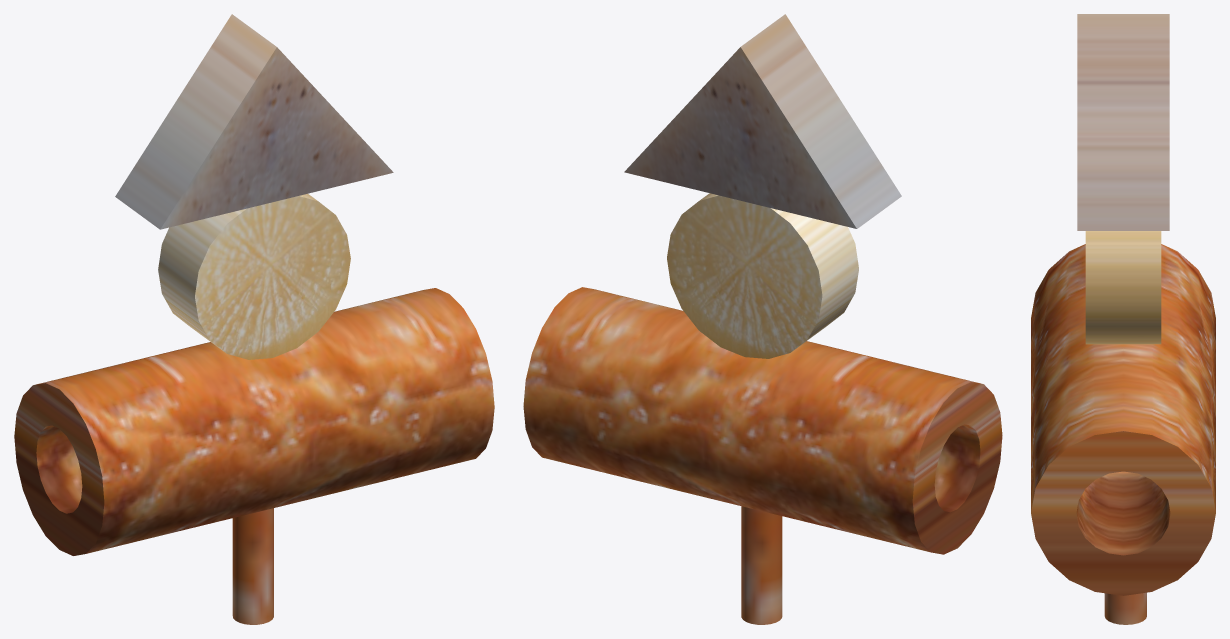
File: oden.fbx
3 renders of one model, left to right at view 1: azimuth 30°, elevation 25°; view 2: azimuth 150°, elevation 25°; view 3: azimuth 270°, elevation 25°, orthographic. The views are drawn at different scales.
Parts seen in each view (by area): view 1: polySurface4; view 2: polySurface4; view 3: polySurface4.
Boxes of the visible parts, <box> form: polySurface4: <box>14,14,494,624</box>; polySurface4: <box>523,14,1002,624</box>; polySurface4: <box>1031,14,1215,624</box>.
Size of the model in its own units: 2.86 by 4.11 by 1.14.
Materials: 1 (1 with a texture image).
